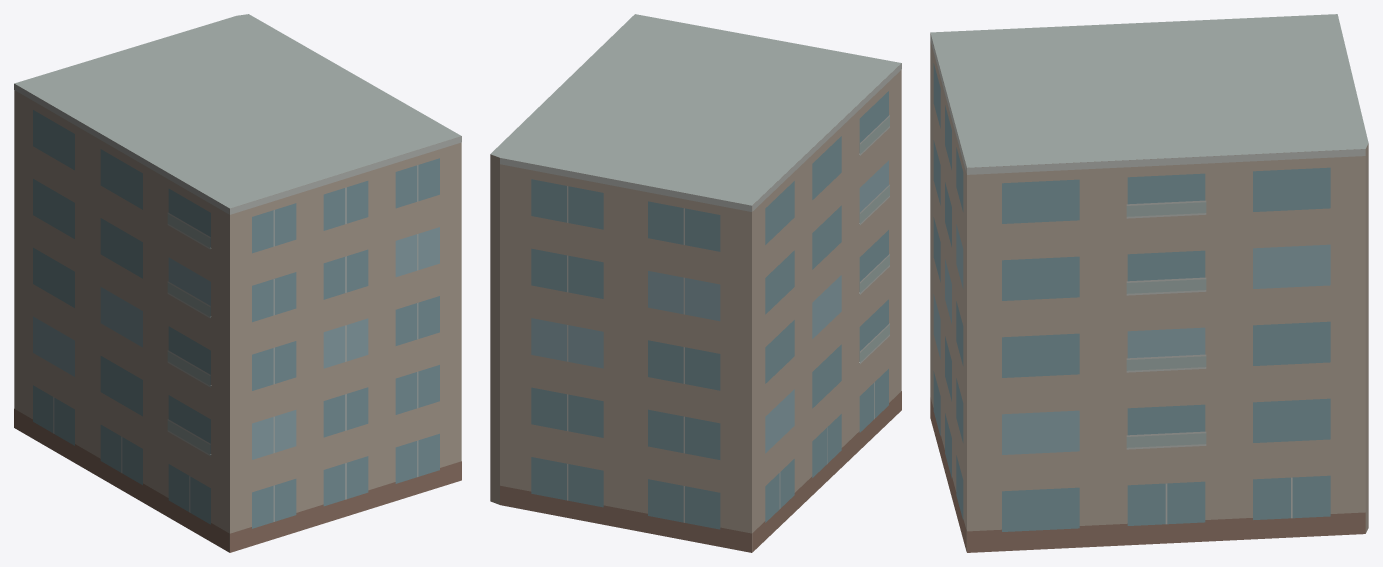
The model's file is survey-upis-32846132.glb.
3 renders of one model, left to right at view 1: azimuth 30°, elevation 25°; view 2: azimuth 150°, elevation 25°; view 3: azimuth 270°, elevation 25°, orthographic. The views are drawn at different scales.
Parts seen in each view (by area): view 1: survey-upis-32846132.tmp; view 2: survey-upis-32846132.tmp; view 3: survey-upis-32846132.tmp.
Part boxes in pixels (x1,y1,x2,y2): survey-upis-32846132.tmp: [14, 14, 461, 552]; survey-upis-32846132.tmp: [490, 14, 901, 552]; survey-upis-32846132.tmp: [930, 14, 1368, 552].
Size of the model in its own units: 11.32 by 13.2 by 13.63.
